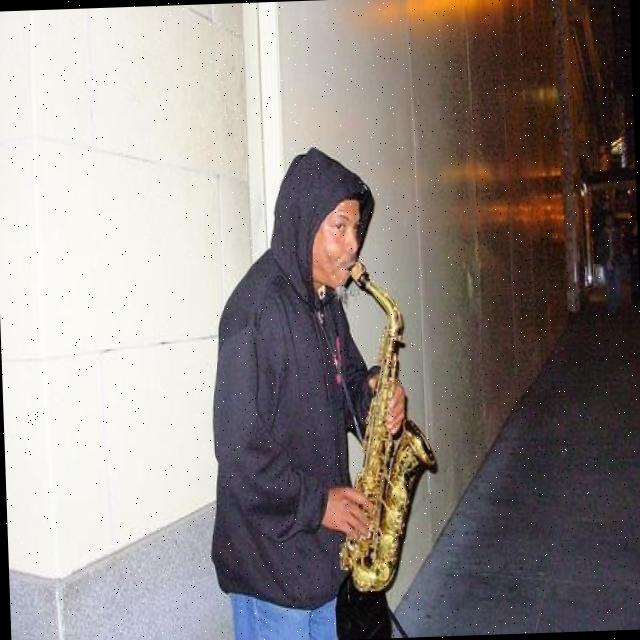saxophone: (327, 260, 444, 594)
